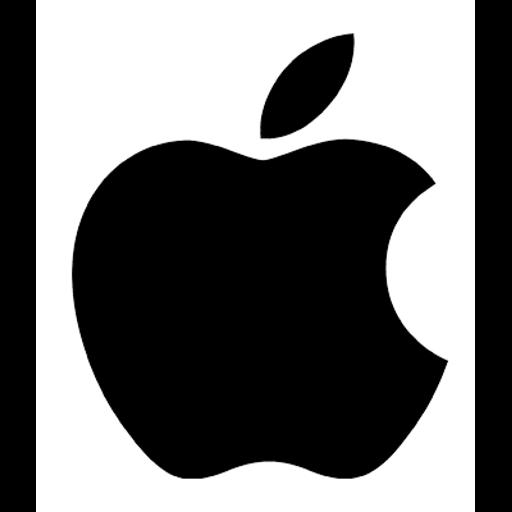Apple: (36, 0, 475, 512)
